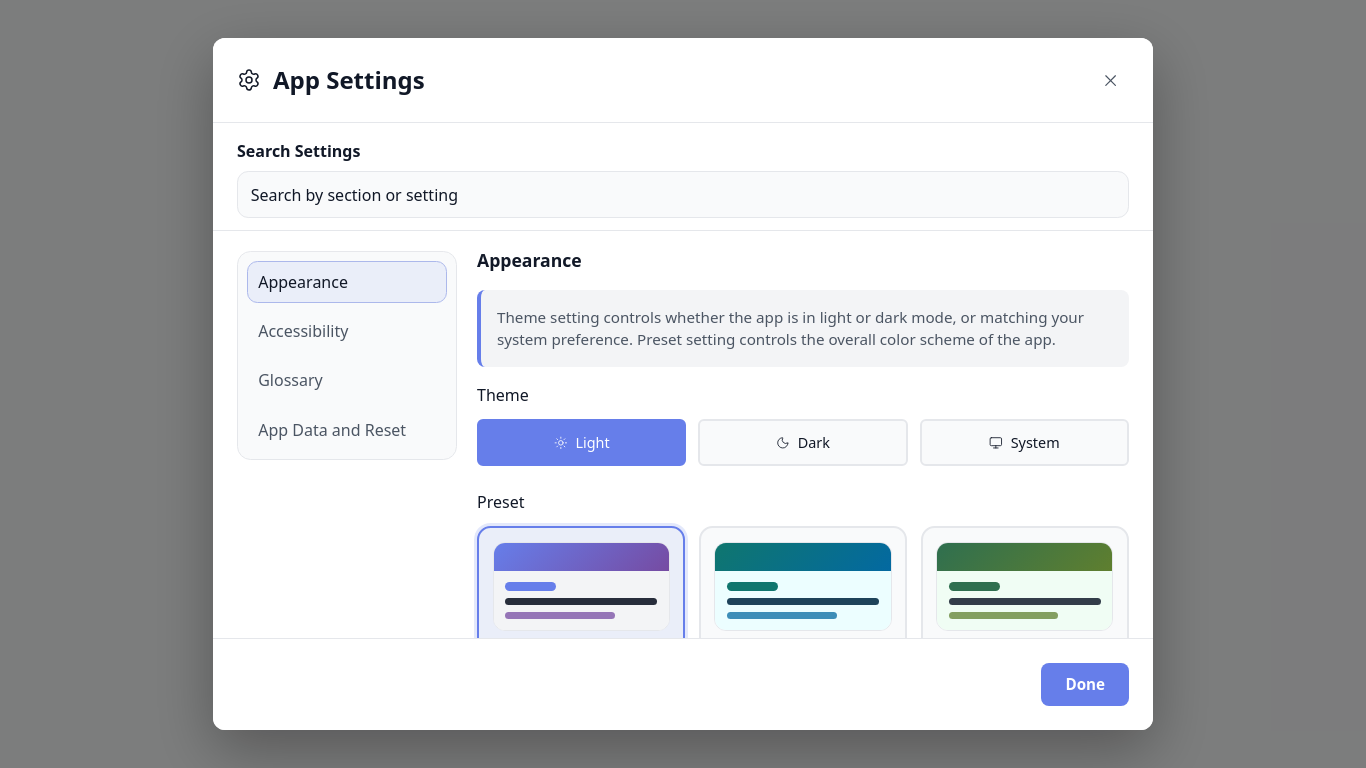
Test: SettingsModal › filters settings sections using search keywords
Type "contrast" into the search field labelled "Search Settings" at (683, 195), box [237,171,1129,218]
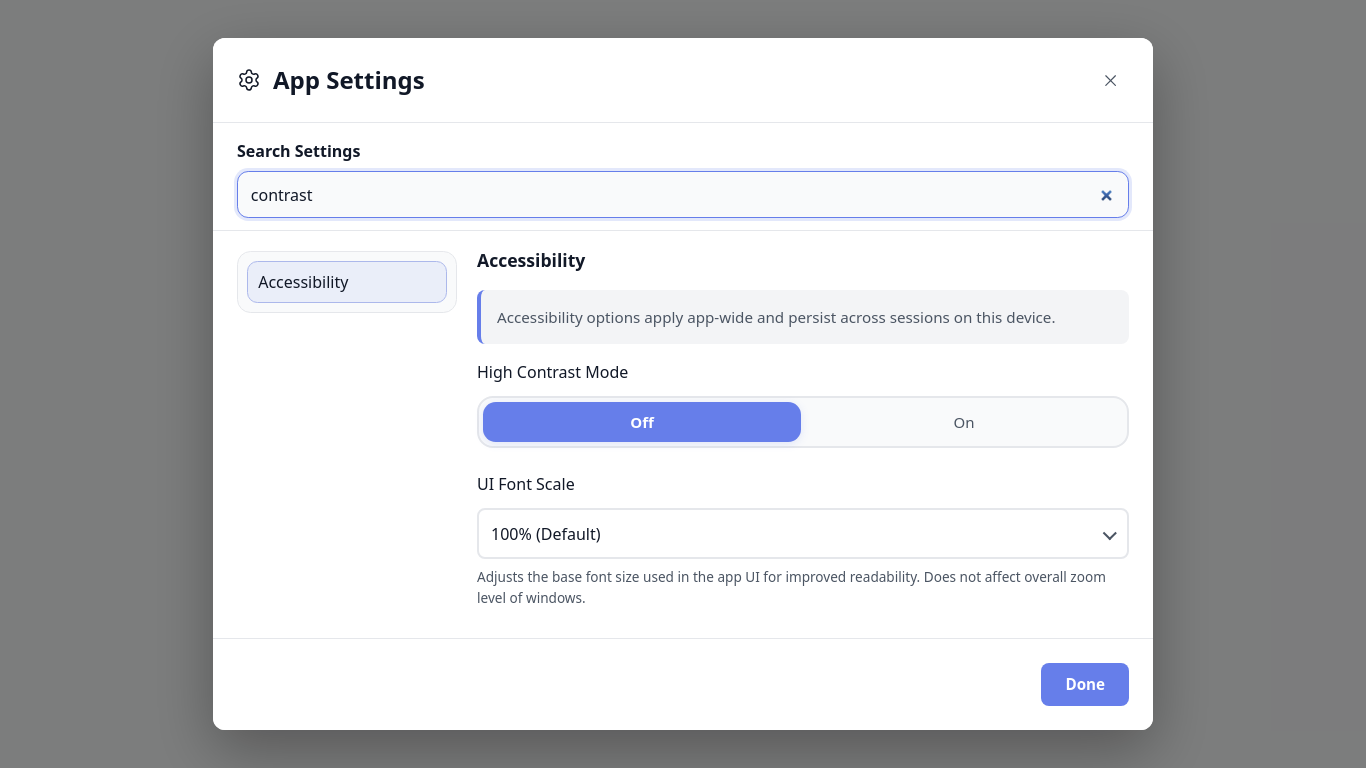
Expected: the button "Accessibility" is shown, [247,261,447,303]
Expected: the heading "Accessibility" is shown, [477,248,585,272]
Expected: the button "Appearance" is gone
